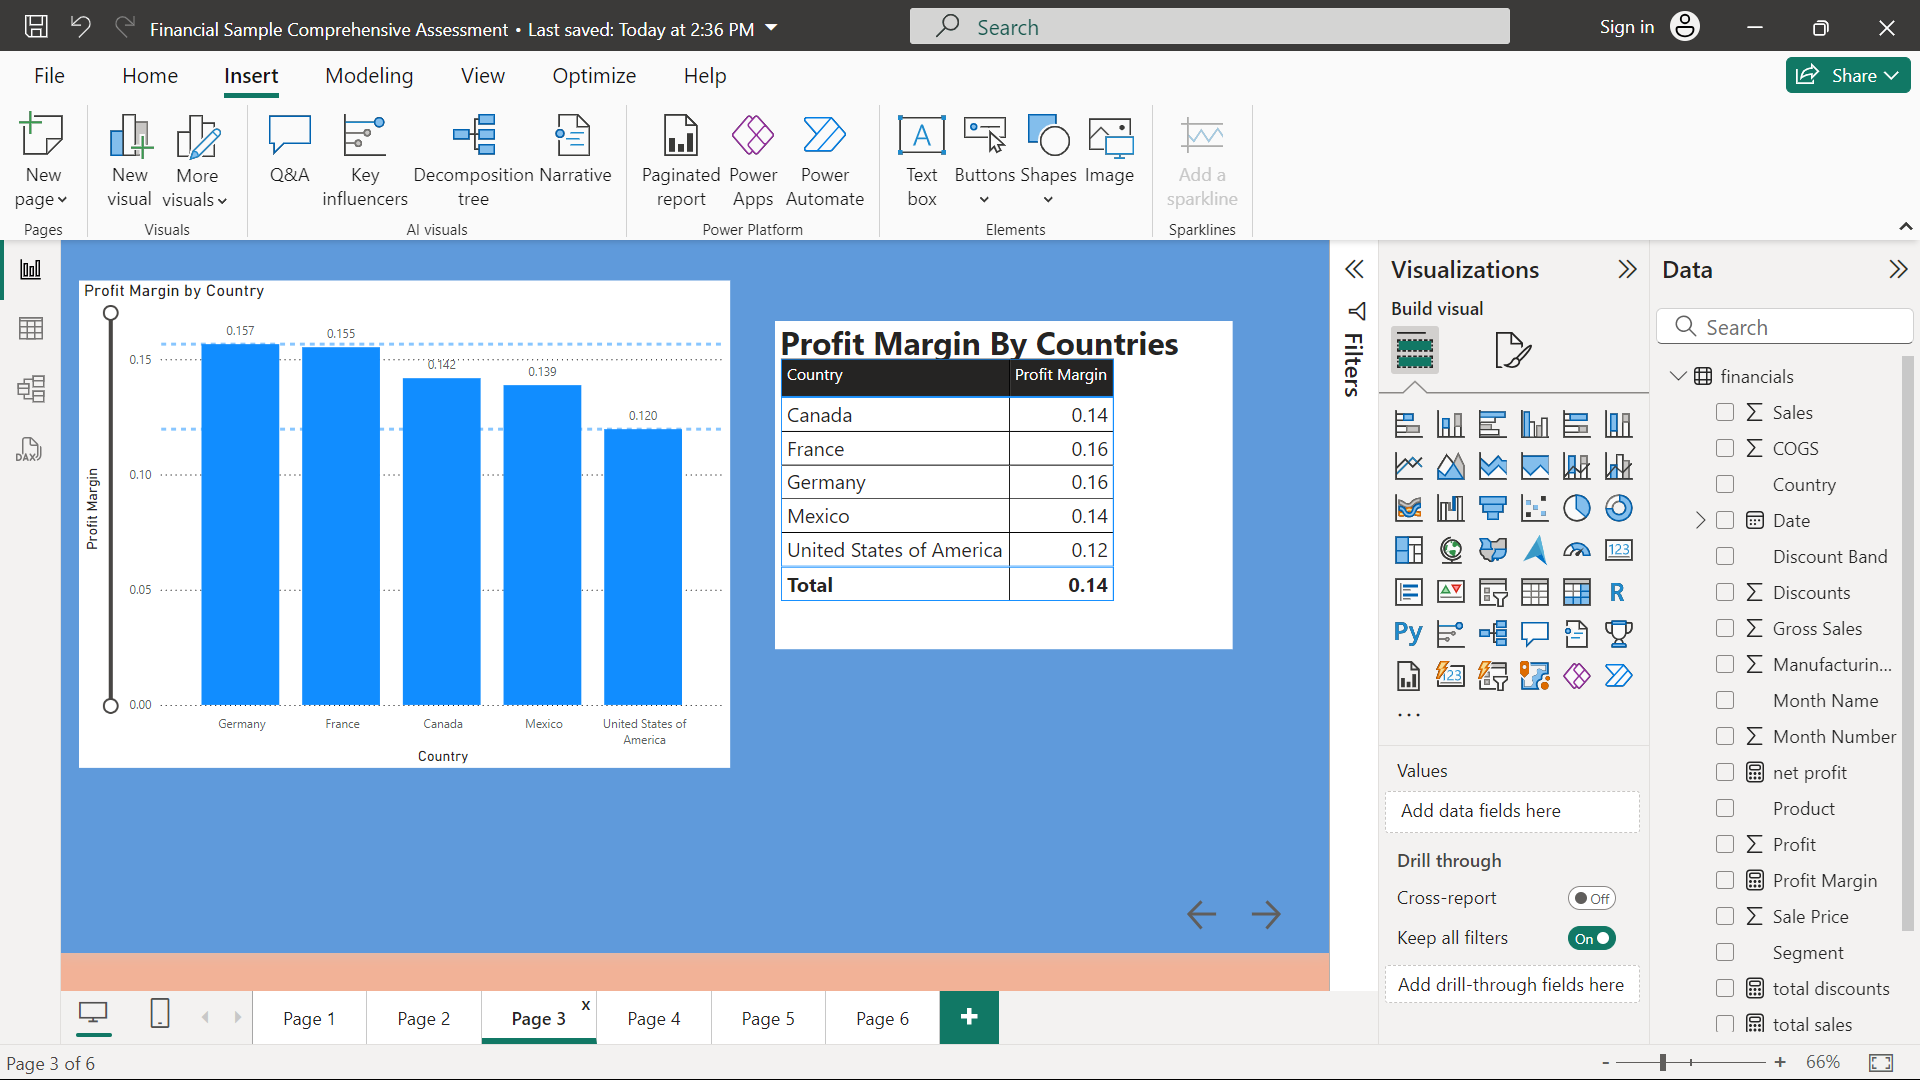

What the dashboard file says about the page in this screenshot:
{"tool":"powerbi","page":{"name":"Page 3","canvas":[1280,720],"ordinal":2},"visuals":[{"type":"tableEx","title":"Profit Margin By Countries","fields":{"Values":["financials.Country","financials.Profit Margin"]},"box":[720.8,81.8,461.8,331.6],"z":0},{"type":"clusteredColumnChart","fields":{"Category":["financials.Country"],"Y":["financials.Profit Margin"]},"box":[18.2,40.9,657.2,492.1],"z":1000},{"type":"actionButton","box":[1196.2,661.7,83.3,39.4],"z":1001},{"type":"actionButton","box":[1132.6,661.7,99.9,39.4],"z":1002}]}

Visuals, with their boxes on the page's 1280x720 design canvas (x1, y1, x2, y2). These are canvas units, not pixel positions in the 1920x1080 screenshot, which may show the page scaled, cropped or inside an application window:
"Profit Margin By Countries" tableEx: bbox(721, 82, 1183, 413)
clusteredColumnChart - financials.Country x financials.Profit Margin: bbox(18, 41, 675, 533)
actionButton: bbox(1196, 662, 1280, 701)
actionButton: bbox(1133, 662, 1232, 701)
